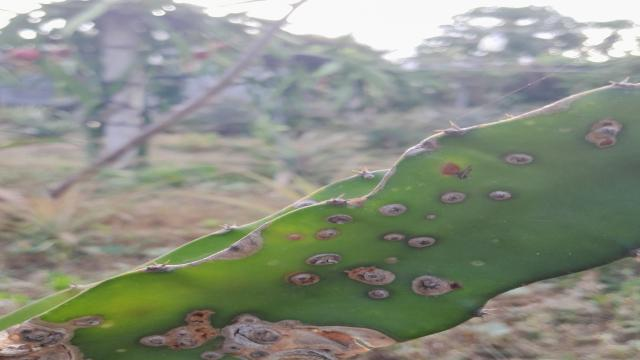stemcanker: (273, 82, 640, 303)
